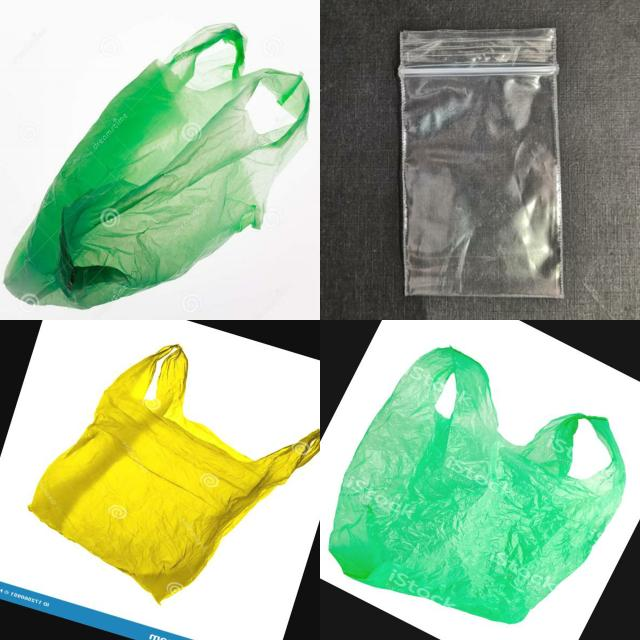Single-layer Plastic: (4, 24, 309, 309), (329, 348, 625, 624), (29, 345, 320, 602), (399, 29, 564, 298)
